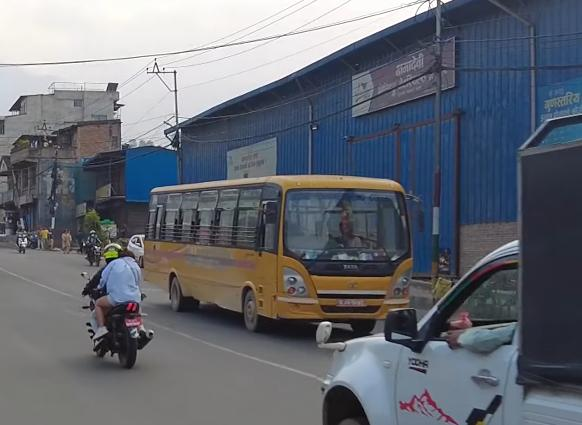bike: (79, 271, 159, 370)
school_bus: (143, 169, 414, 338)
